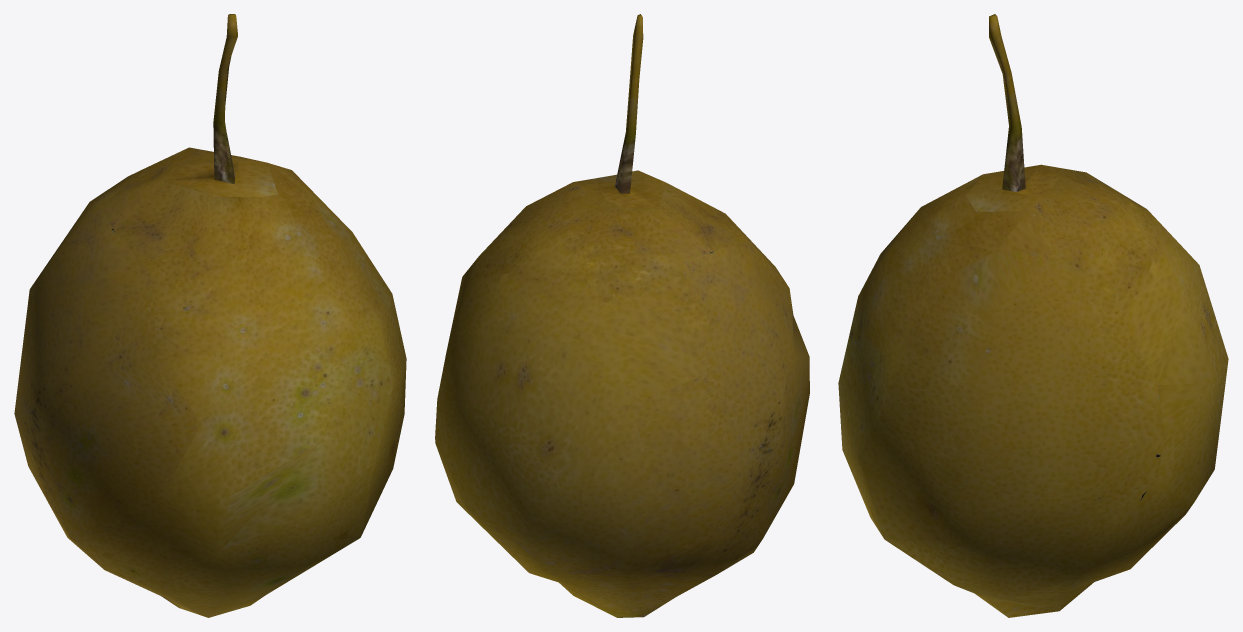
The picture shows the model from 3 angles, left to right: view 1: azimuth 30°, elevation 25°; view 2: azimuth 150°, elevation 25°; view 3: azimuth 270°, elevation 25°; orthographic projection. The views are drawn at different scales.
Visible parts, largest first — view 1: 27_lemon; view 2: 27_lemon; view 3: 27_lemon.
Boxes of the visible parts, box(x1,y1,x2,y2) form: 27_lemon: box(14, 14, 406, 617); 27_lemon: box(435, 14, 809, 617); 27_lemon: box(838, 14, 1228, 617).
Bounding box in the file's own units: 77.36 × 136 × 80.33.
